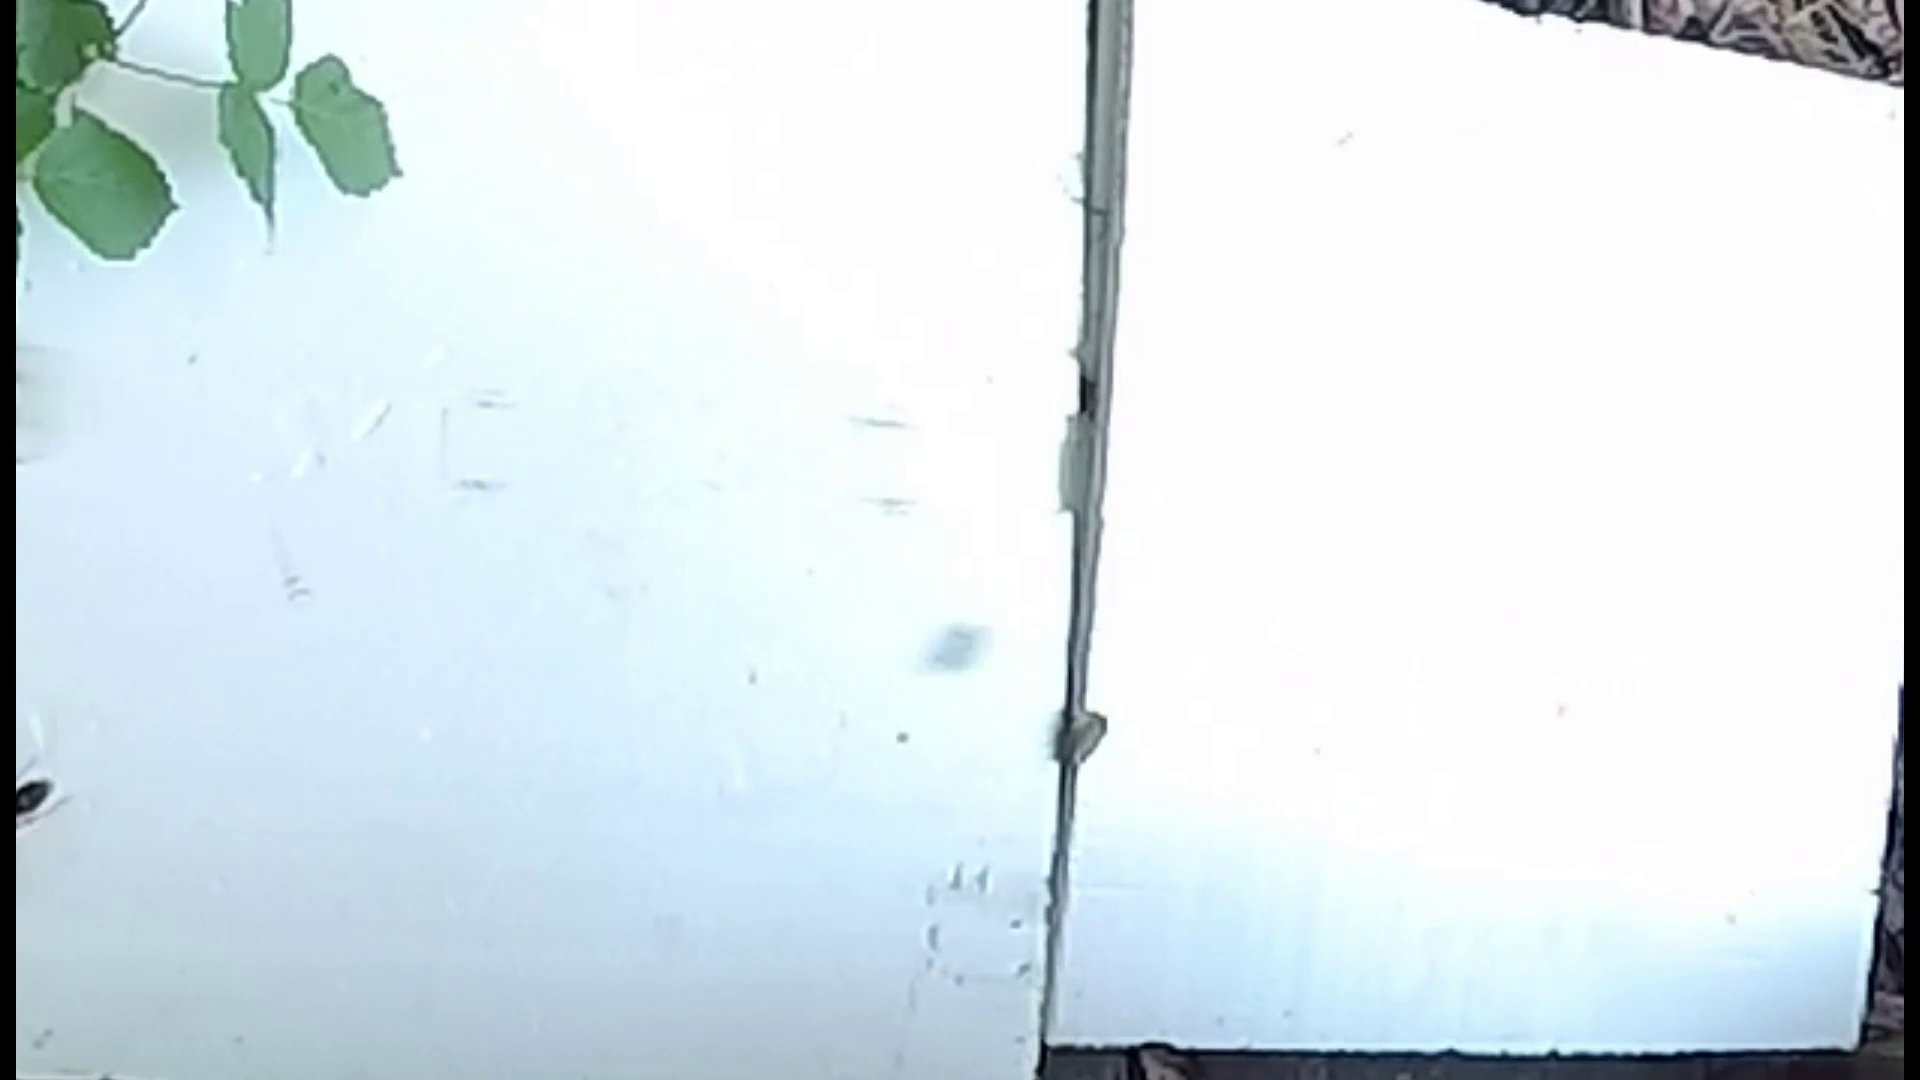Asian_hornets: (17, 738, 92, 853)
